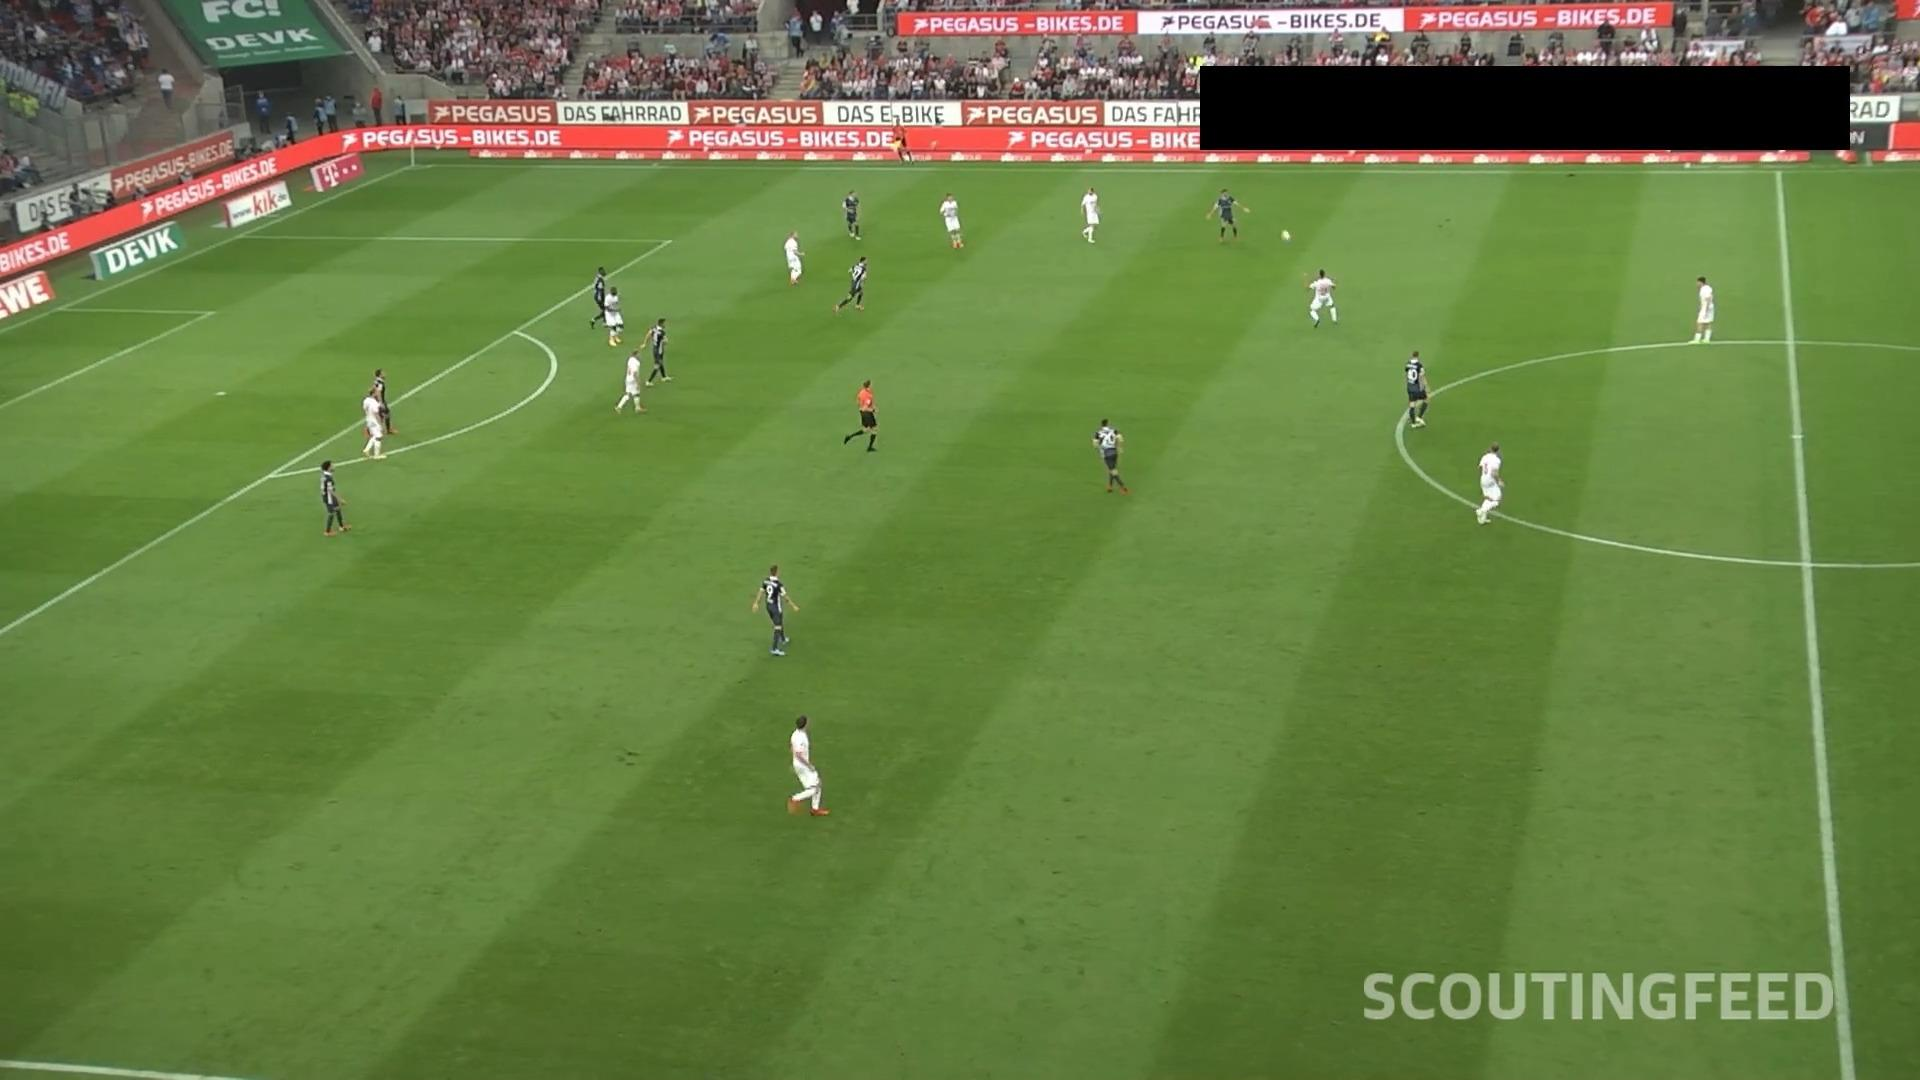ball: (1279, 228, 1294, 243)
